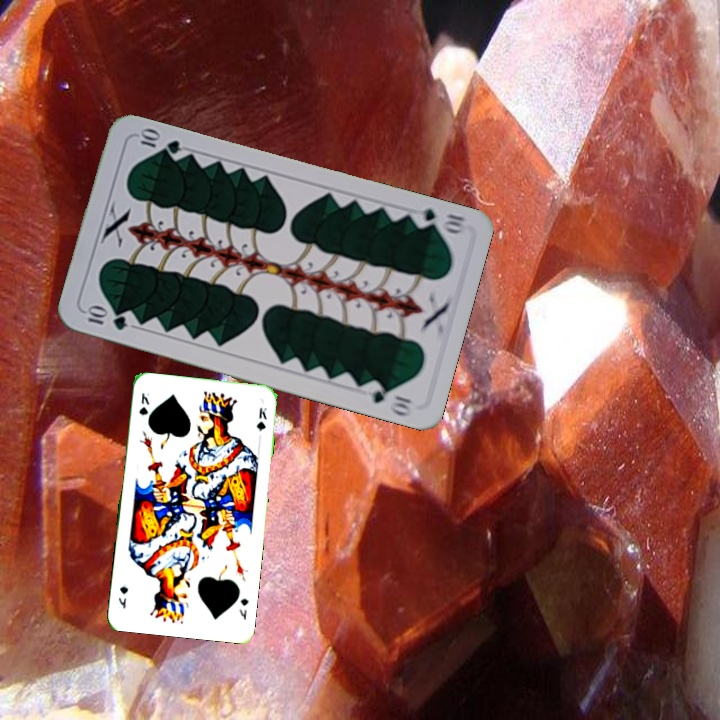G10: (408, 204, 469, 237), (81, 302, 131, 333)
GK: (135, 389, 152, 418), (235, 594, 251, 622)
